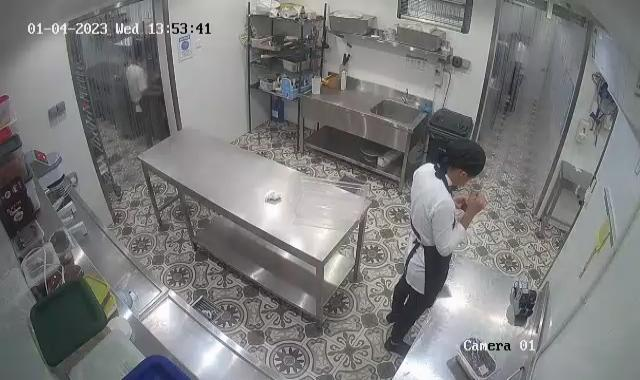no_hairnet: (440, 140, 488, 181)
